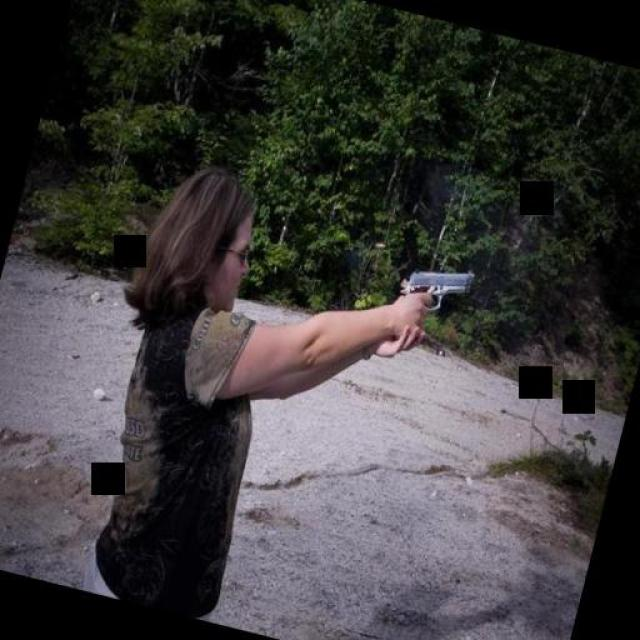gun: (388, 252, 478, 328)
